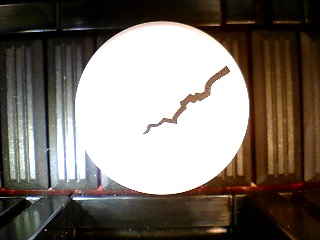CRACK: (74, 21, 250, 195)
